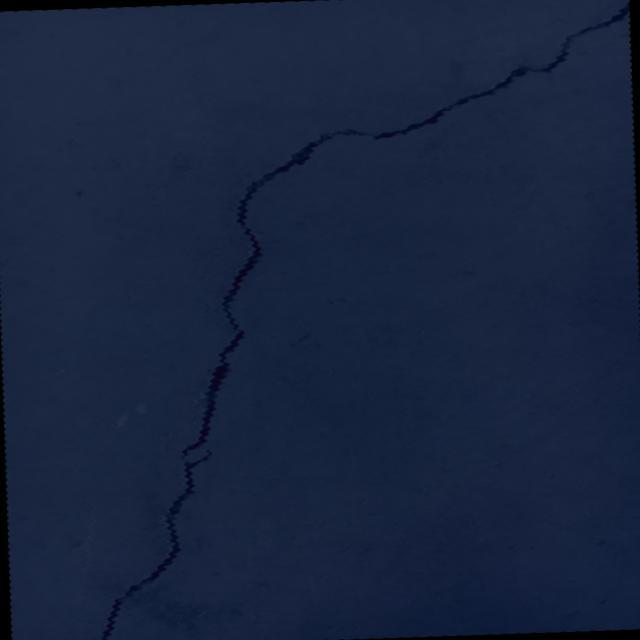crack: (77, 2, 640, 640), (158, 629, 182, 640)
